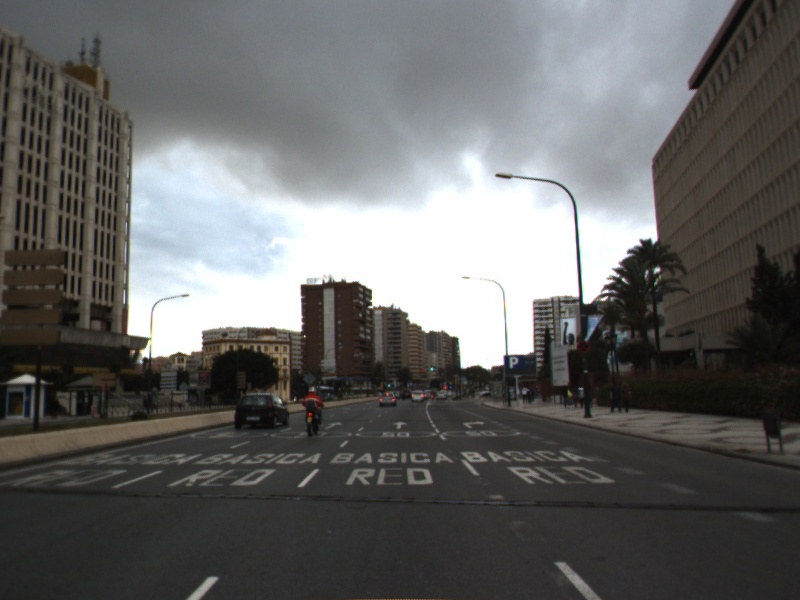RIGHT: (460, 419, 487, 430)
STRAIGHT: (322, 420, 345, 431), (390, 419, 410, 431)
